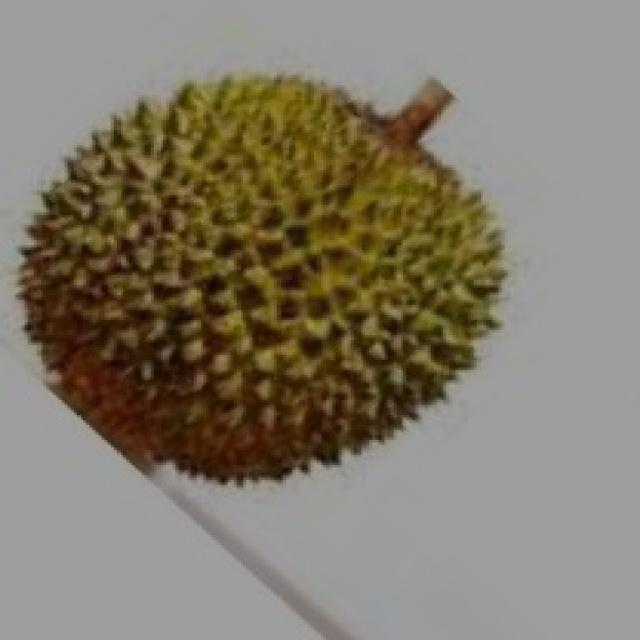fruit: (178, 98, 572, 532), (0, 170, 363, 540)
